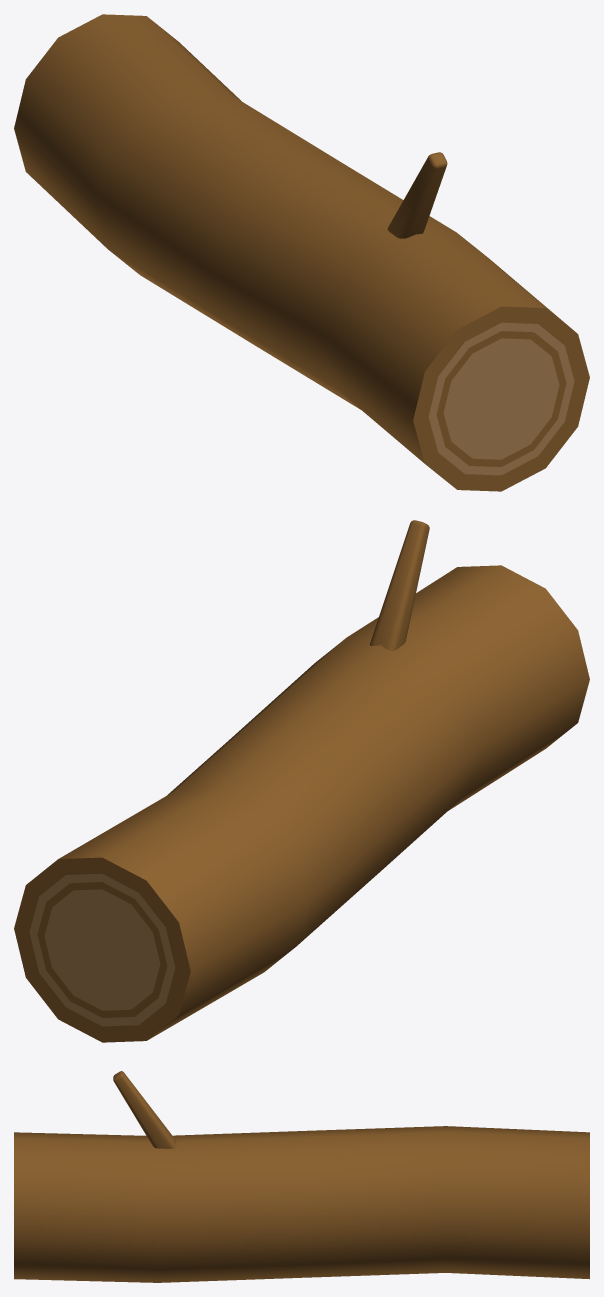
The model's file is River Wood.fbx.
3 renders of one model, top to bottom at view 1: azimuth 30°, elevation 25°; view 2: azimuth 150°, elevation 25°; view 3: azimuth 270°, elevation 25°, orthographic. The views are drawn at different scales.
Parts seen in each view (by area): view 1: River Wood; view 2: River Wood; view 3: River Wood.
Part boxes in pixels (bbox=[...]): River Wood: bbox=[14, 14, 589, 491]; River Wood: bbox=[14, 520, 589, 1042]; River Wood: bbox=[14, 1071, 589, 1282].
Bounding box in the file's own units: 0.2167 × 0.2836 × 0.729.
